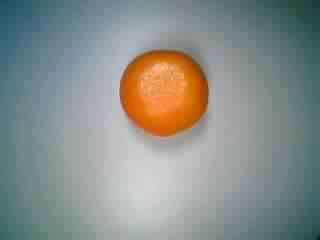orange: (117, 47, 212, 141)
